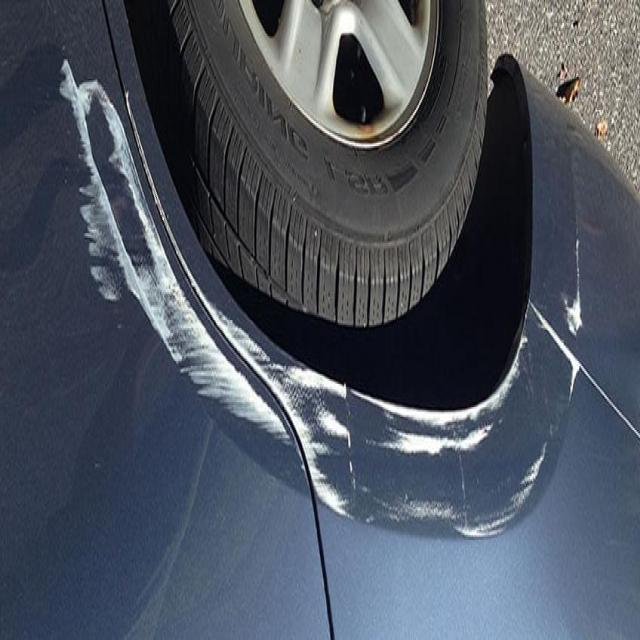scratch: (47, 21, 351, 568), (364, 360, 606, 598)
